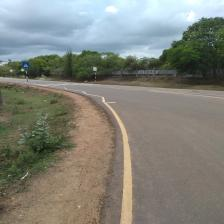blueboard: (22, 62, 30, 68)
crossing: (35, 80, 134, 106)
